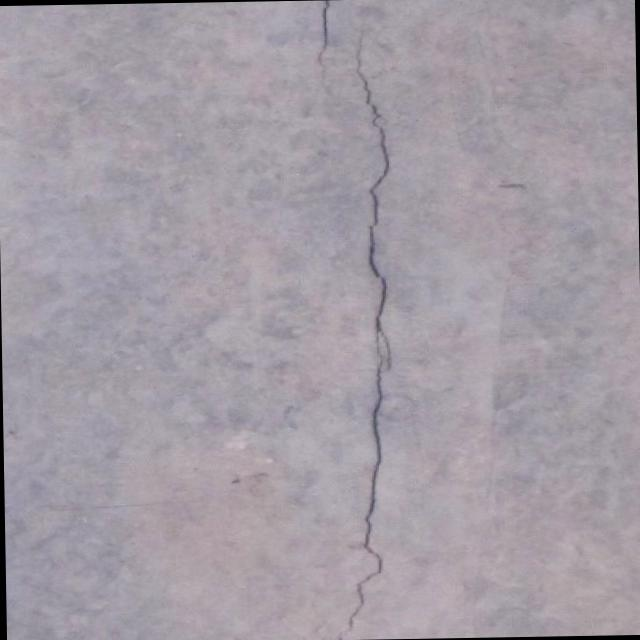crack: (304, 2, 406, 638)
